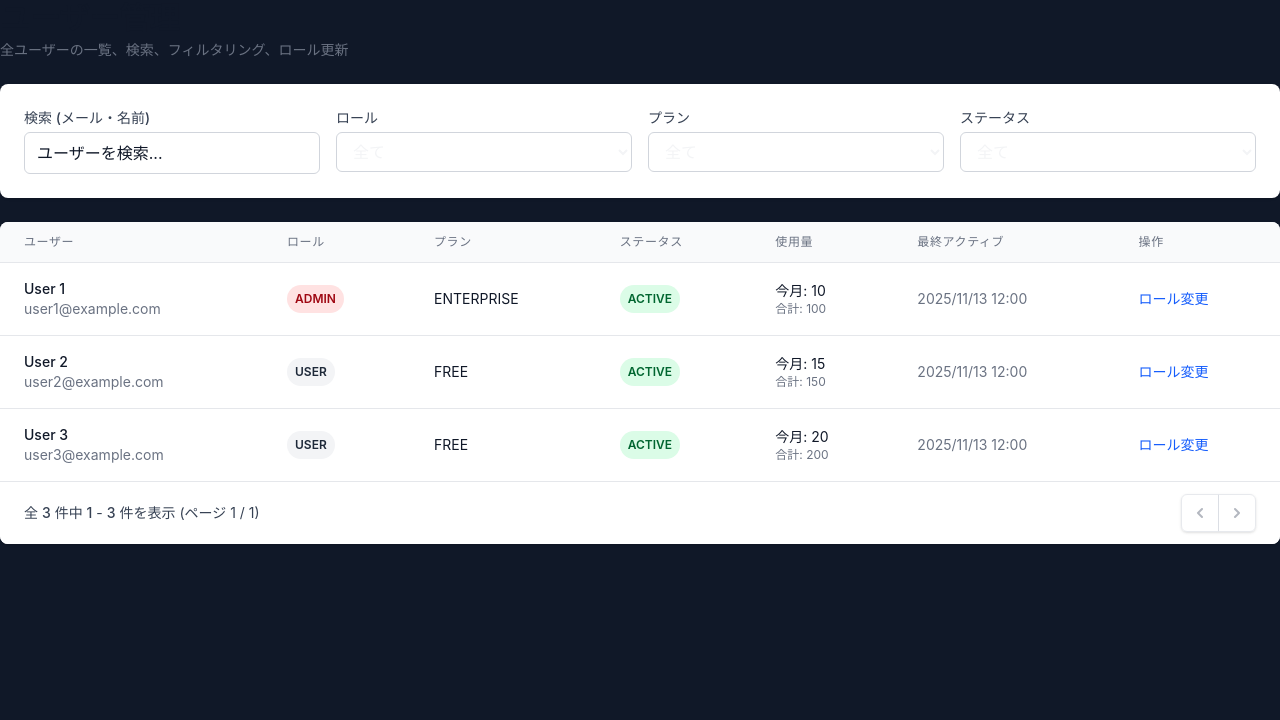
Test: Admin Users Page › Update Role Modal › should open update role modal when clicking button
This screenshot has width=1280, height=720.
Check: the text "user1@example.com" is shown, box [24,300,161,317]
Click the button "ロール変更" in the row of "User 1" at (1174, 299), box [1139,289,1209,309]
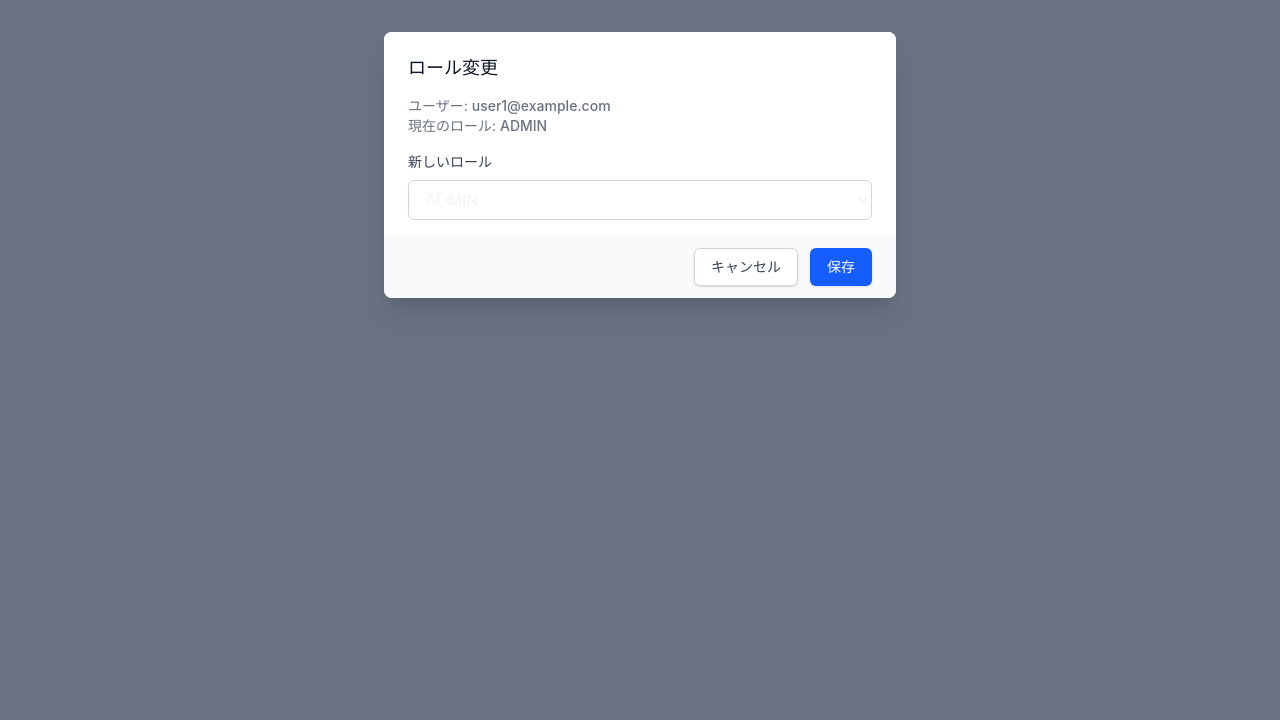
Check: the text "新しいロール" is shown, box [408,153,492,170]
Check: the button "保存" is shown, box [810,248,872,286]
Check: the button "キャンセル" is shown, box [694,248,798,286]
